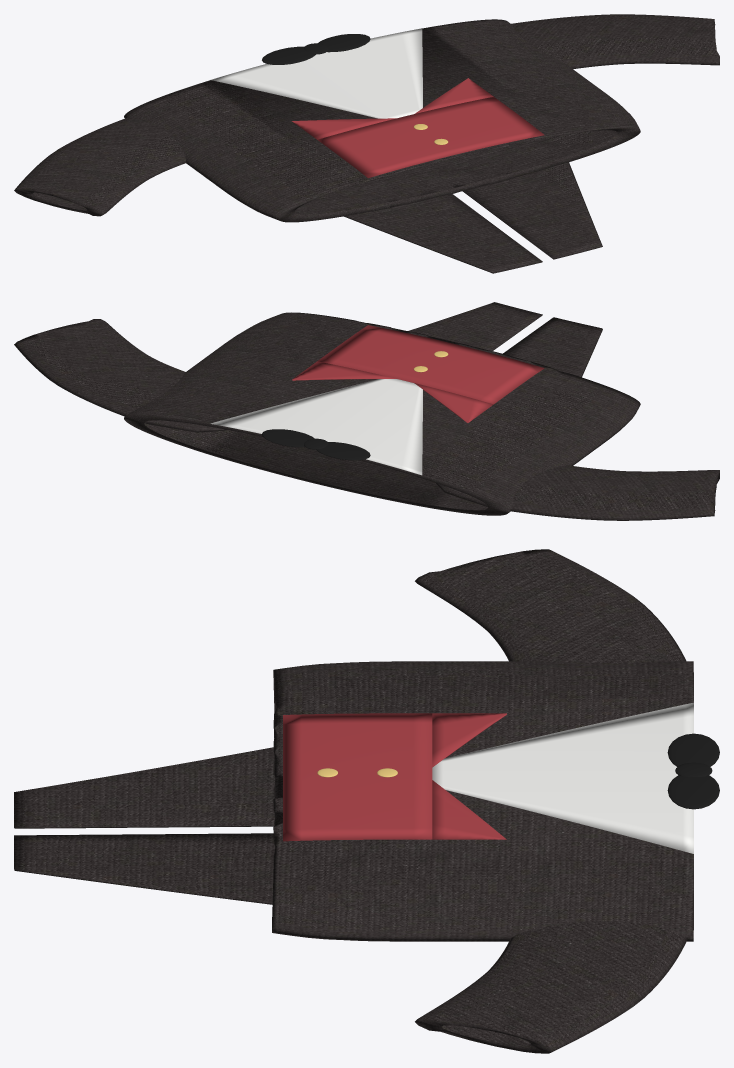
Rendered from tailcoat1.fbx.
3 renders of one model, top to bottom at view 1: azimuth 30°, elevation 25°; view 2: azimuth 150°, elevation 25°; view 3: azimuth 270°, elevation 25°, orthographic. The views are drawn at different scales.
Visible parts, largest first — view 1: tailcoat1; view 2: tailcoat1; view 3: tailcoat1.
Part boxes in pixels (x1,y1,x2,y2): tailcoat1: (14, 14, 719, 273); tailcoat1: (14, 302, 719, 520); tailcoat1: (14, 549, 719, 1053).
Bounding box in the file's own units: 1.59 × 0.0945 × 0.945.
5 materials, 1 textured.
